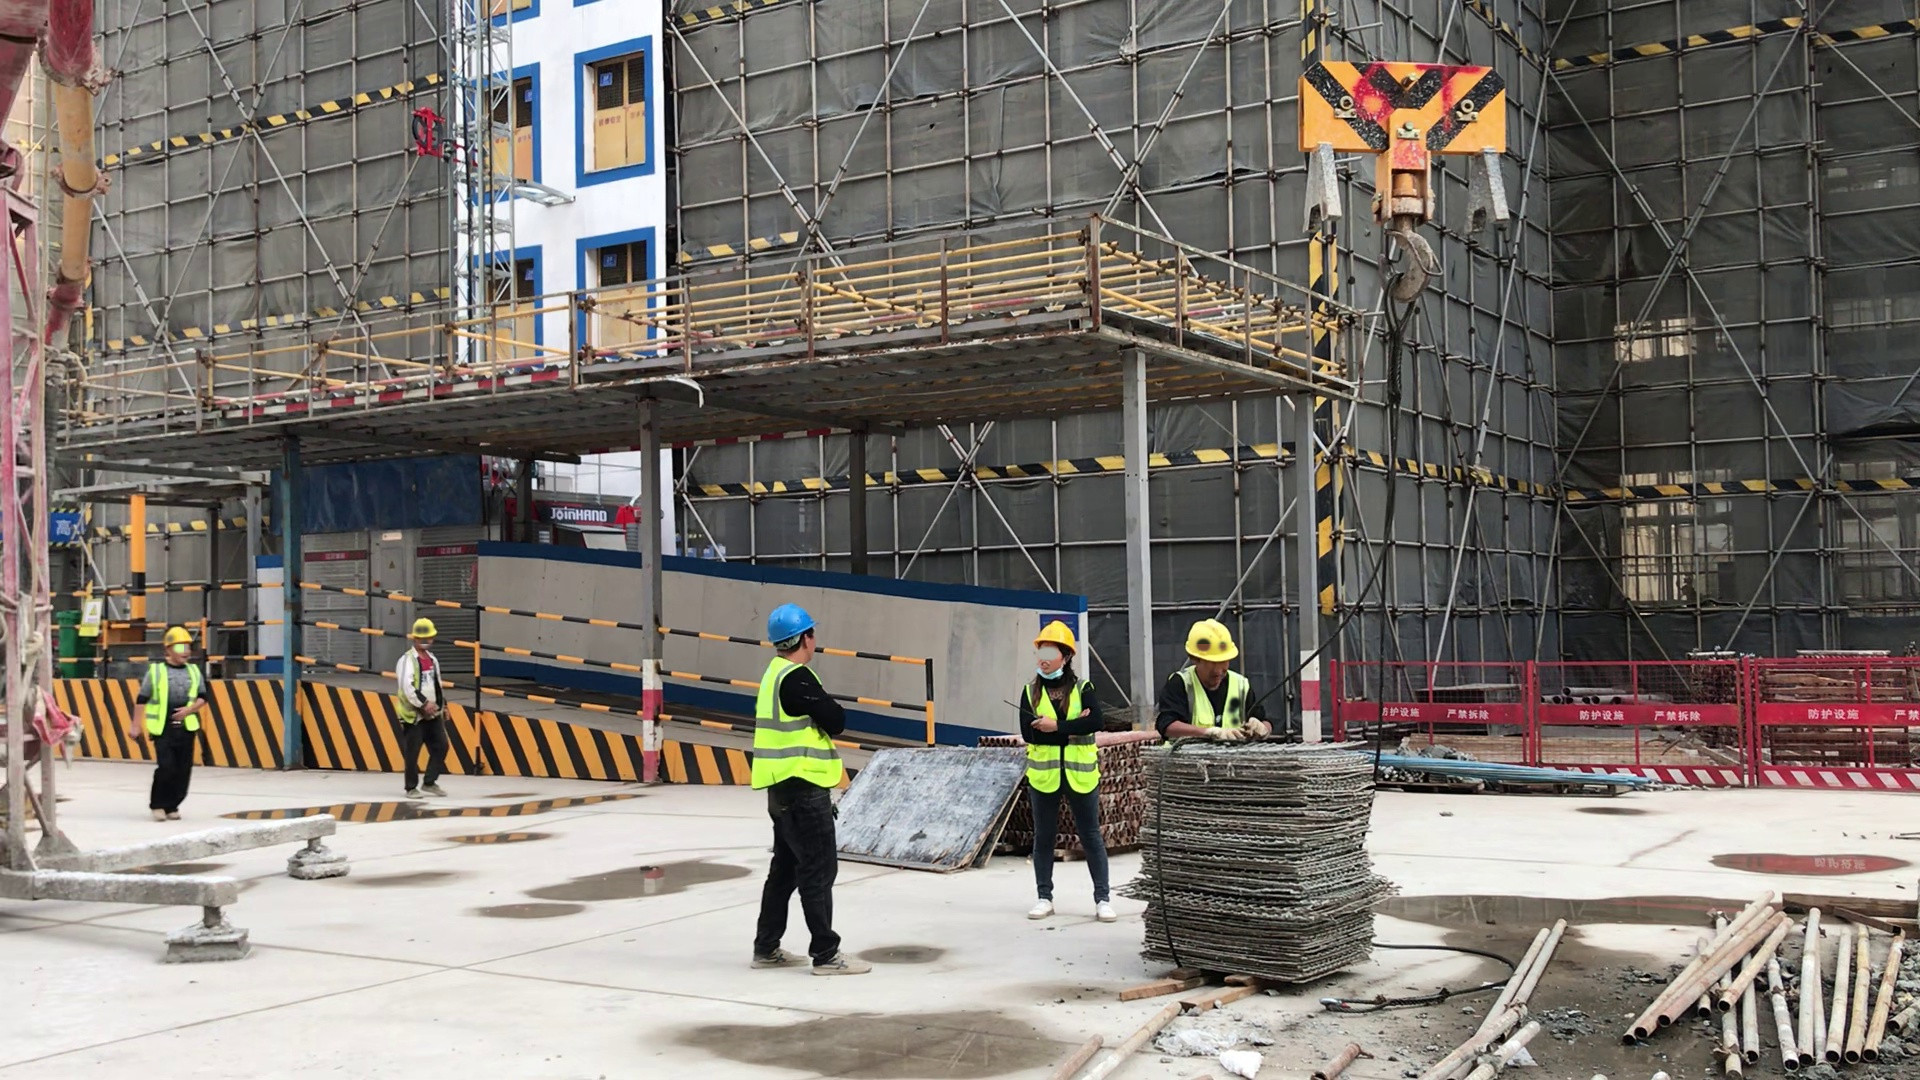fence: (1331, 645, 1915, 793)
helmet: (1181, 617, 1244, 660), (763, 599, 815, 640), (1032, 621, 1081, 650), (405, 613, 440, 638), (156, 625, 197, 645)
hook: (1290, 60, 1530, 302)
person: (719, 591, 881, 985), (1001, 609, 1129, 928), (1145, 611, 1286, 753), (367, 611, 467, 811), (132, 616, 226, 830)
vest: (743, 654, 840, 782), (1028, 683, 1096, 793), (1177, 672, 1251, 746), (151, 660, 207, 737)
